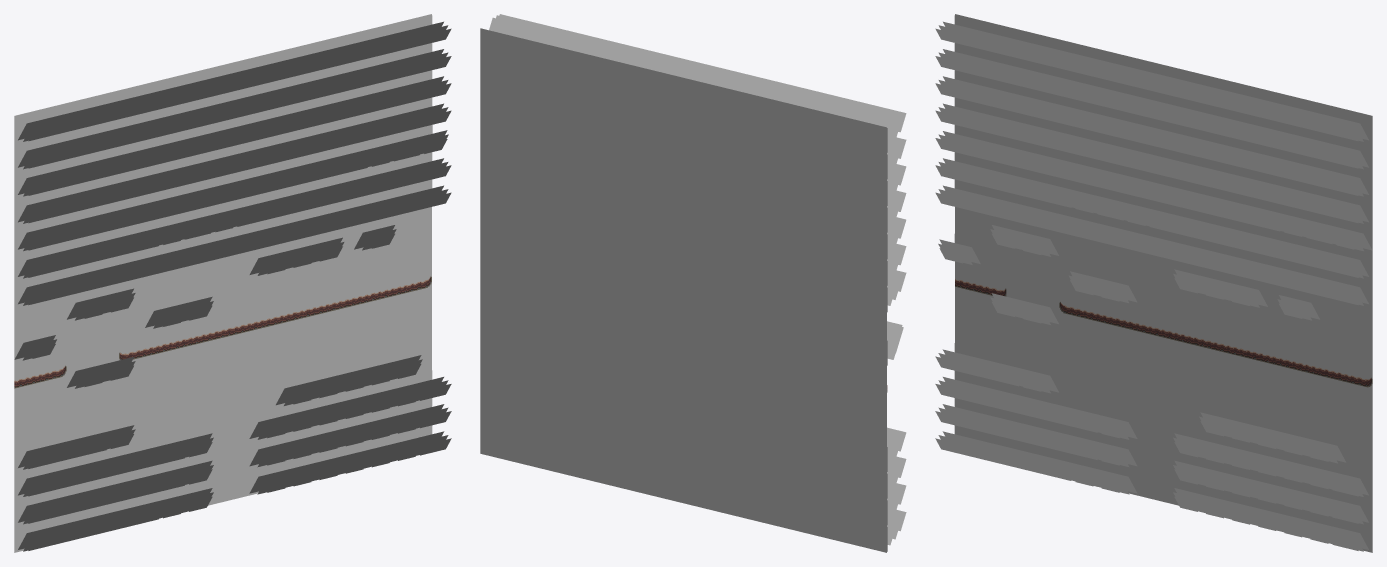
The model's file is Plat_full_02_20.obj.
The picture shows the model from 3 angles, left to right: view 1: azimuth 30°, elevation 25°; view 2: azimuth 150°, elevation 25°; view 3: azimuth 330°, elevation 25°; orthographic projection. The views are drawn at different scales.
Parts seen in each view (by area): view 1: map; view 2: map; view 3: map.
Part boxes in pixels (left/top/right/bottom): map: left=14, top=14, right=451, bottom=552; map: left=480, top=14, right=906, bottom=552; map: left=935, top=14, right=1372, bottom=552.
Bounding box in the file's own units: 32.5 × 32.12 × 2.64.
